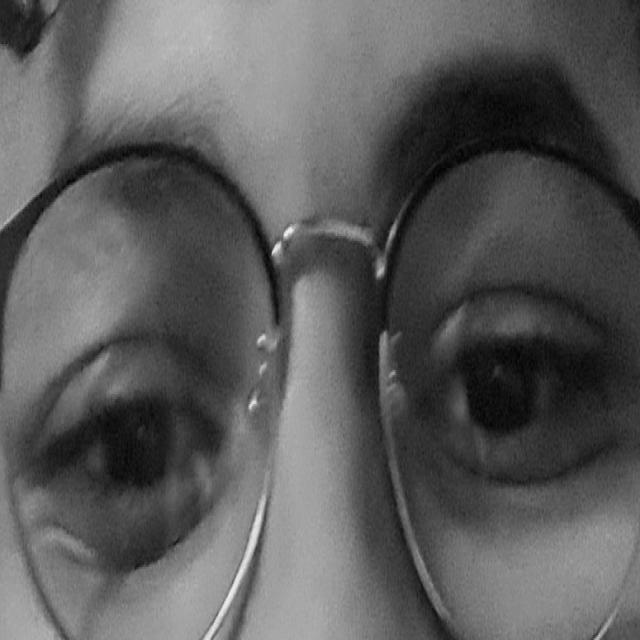real: (27, 218, 640, 598)
